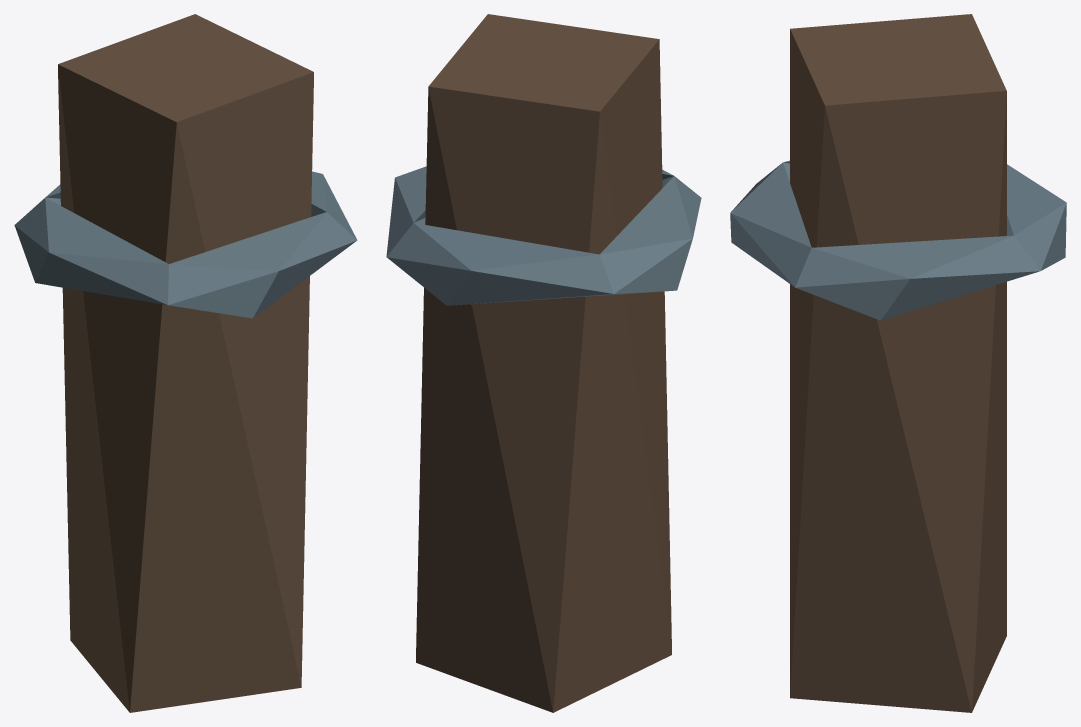
Rendered from harbor-mooring-post.lod2.glb.
3 renders of one model, left to right at view 1: azimuth 30°, elevation 25°; view 2: azimuth 150°, elevation 25°; view 3: azimuth 270°, elevation 25°, orthographic.
Visible parts, largest first — view 1: harbor-mooring-post__body; view 2: harbor-mooring-post__body; view 3: harbor-mooring-post__body.
Boxes of the visible parts, x1,y1,x2,y2 form: harbor-mooring-post__body: (14, 14, 357, 712); harbor-mooring-post__body: (386, 14, 701, 712); harbor-mooring-post__body: (730, 14, 1066, 712).
Size of the model in its own units: 0.5525 by 1.1 by 0.5525.
